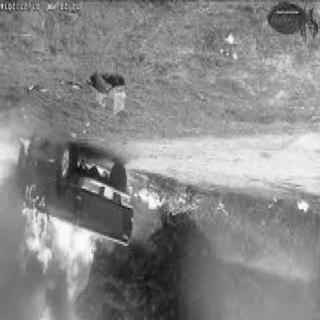Fire: (17, 182, 99, 298)
